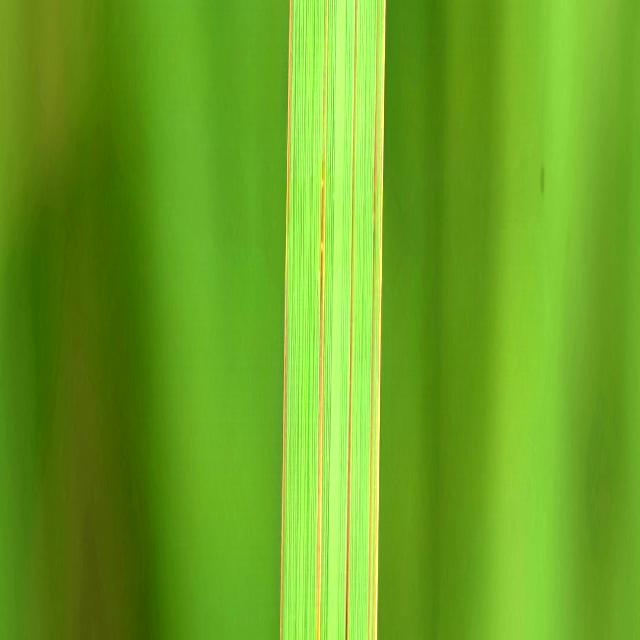BLS: (373, 0, 386, 640), (345, 0, 357, 640), (280, 0, 292, 640), (368, 53, 377, 640), (316, 122, 326, 640)
